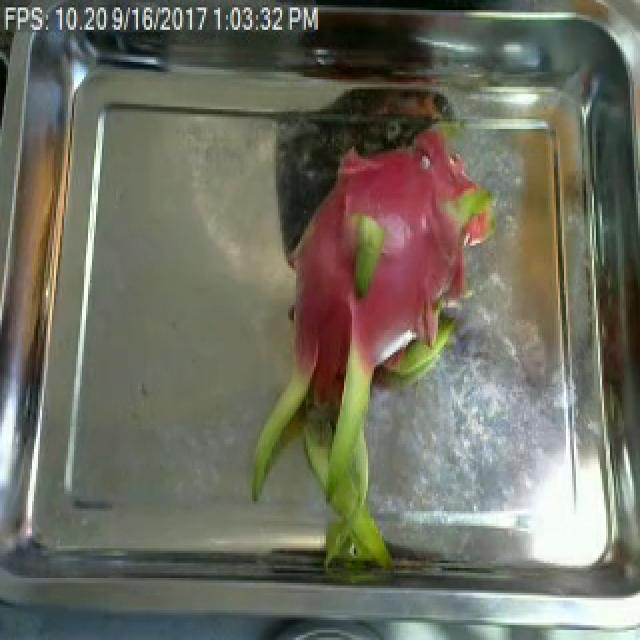fruit: (230, 137, 490, 566)
